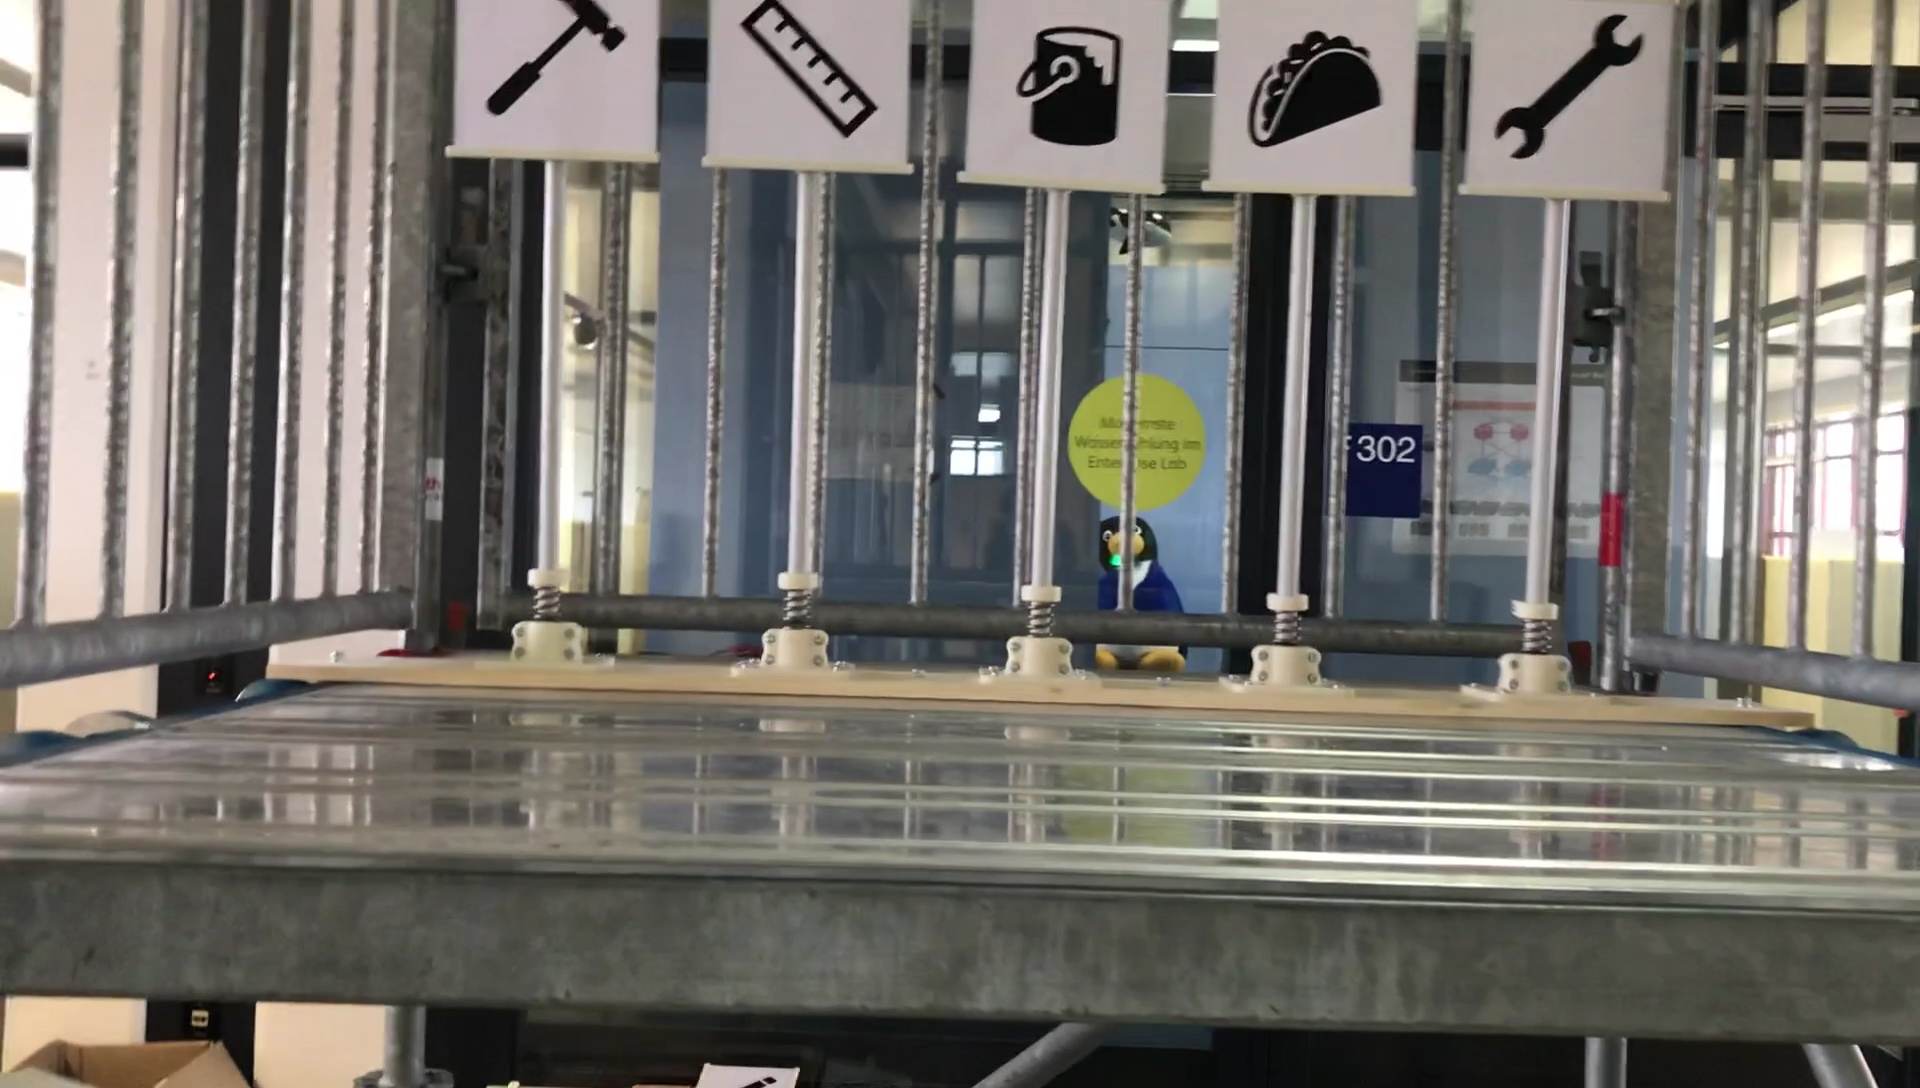bucket: (1004, 16, 1130, 160)
hammer: (473, 0, 636, 127)
ruler: (731, 0, 890, 148)
taco: (1241, 22, 1390, 156)
wrench: (1480, 5, 1652, 173)
